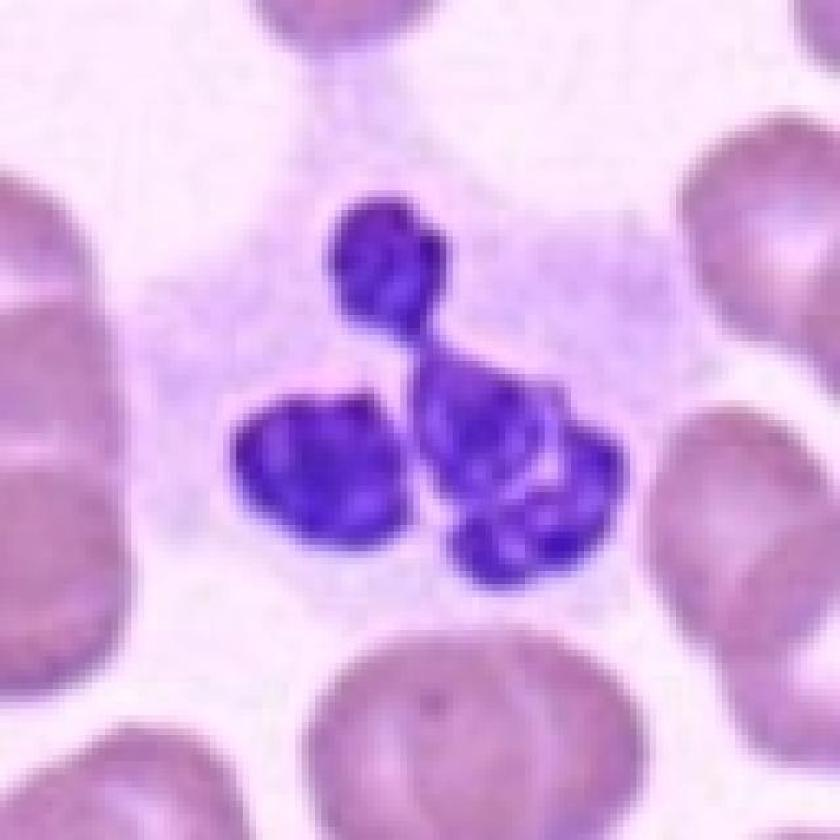neutrophil: (224, 84, 765, 655)
